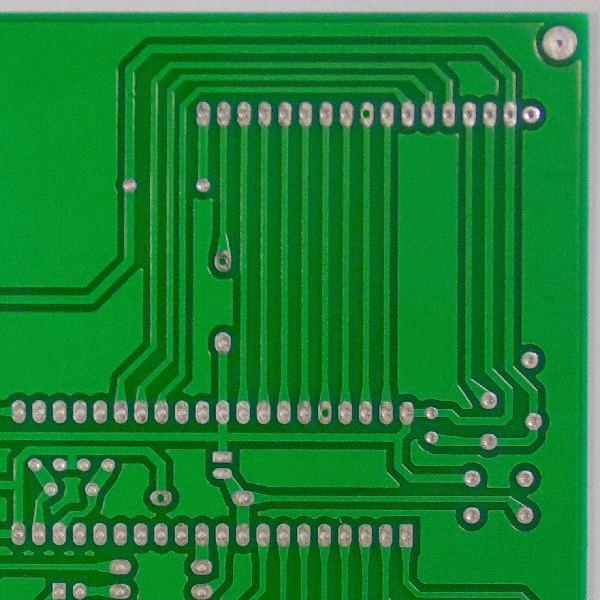missing_hole: (213, 249, 235, 273), (315, 401, 336, 425), (150, 488, 173, 508), (357, 102, 377, 125)
